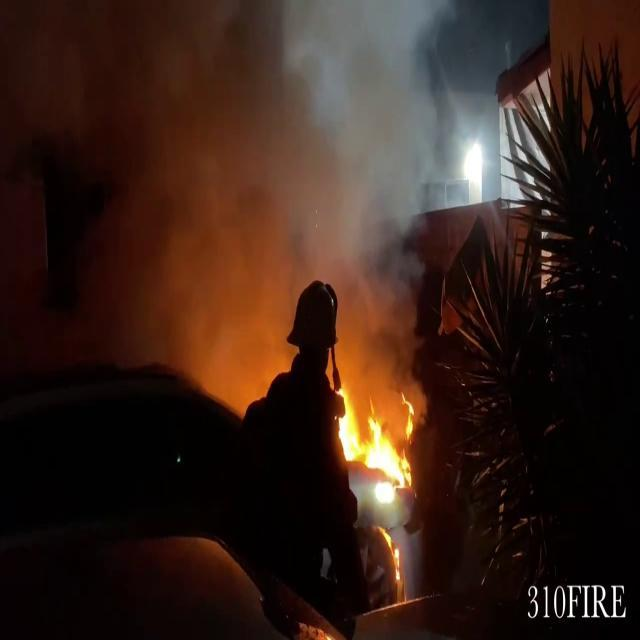Fire: (334, 371, 418, 501)
Smoke: (12, 0, 442, 379)
